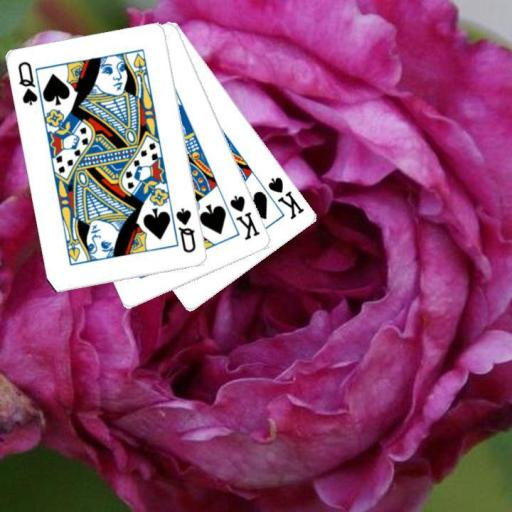KS: (265, 174, 307, 221), (227, 192, 262, 242)
QS: (173, 205, 198, 255), (15, 59, 40, 108)
